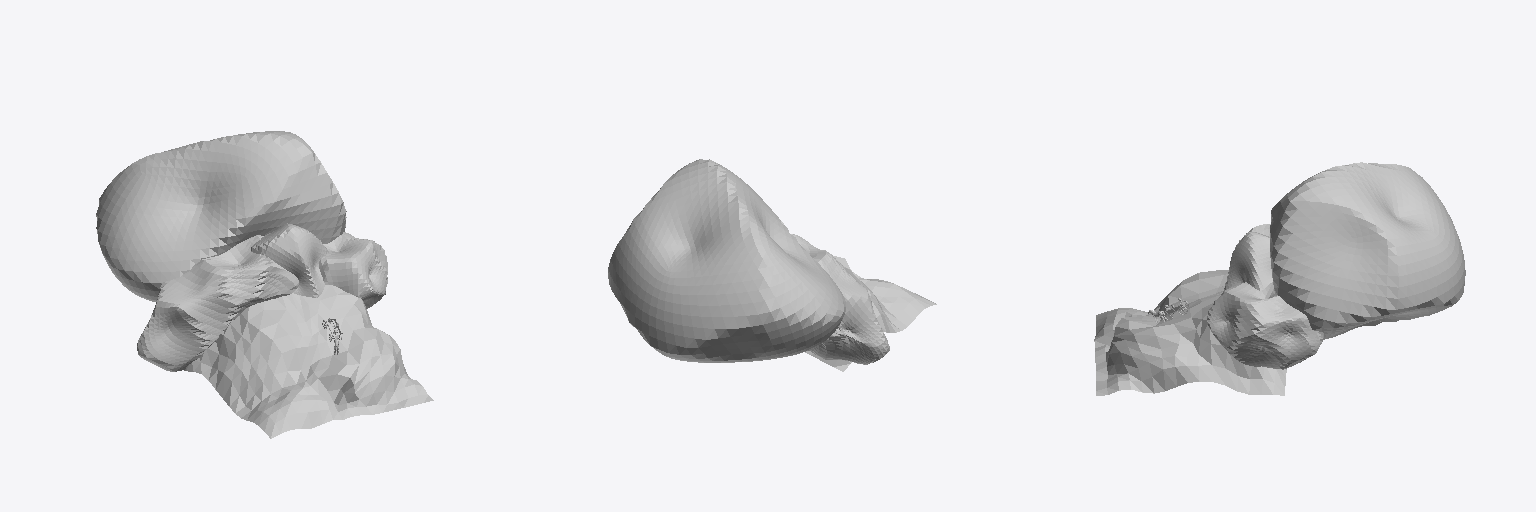
The picture shows the model from 3 angles: view 1: azimuth 30°, elevation 25°; view 2: azimuth 150°, elevation 25°; view 3: azimuth 270°, elevation 25°; orthographic projection.
Visible parts, largest first — view 1: rock01_Cube, Mountain_Plane, rock02_Cube.001, rock03_Cube.006, rock04_Cube.008; view 2: rock01_Cube, rock02_Cube.001, Mountain_Plane; view 3: rock01_Cube, Mountain_Plane, rock03_Cube.006, rock04_Cube.008.
Boxes of the visible parts, x1=… form: rock01_Cube: x1=96, y1=131, x2=346, y2=301; Mountain_Plane: x1=184, y1=285, x2=433, y2=438; rock02_Cube.001: x1=137, y1=235, x2=298, y2=371; rock03_Cube.006: x1=319, y1=232, x2=387, y2=308; rock04_Cube.008: x1=251, y1=223, x2=328, y2=297; rock01_Cube: x1=608, y1=159, x2=845, y2=362; rock02_Cube.001: x1=791, y1=234, x2=889, y2=364; Mountain_Plane: x1=805, y1=256, x2=936, y2=371; rock01_Cube: x1=1270, y1=162, x2=1465, y2=339; Mountain_Plane: x1=1094, y1=270, x2=1286, y2=395; rock03_Cube.006: x1=1207, y1=282, x2=1323, y2=369; rock04_Cube.008: x1=1223, y1=231, x2=1272, y2=291.
Size of the model in its own units: 87.26 by 68.92 by 118.